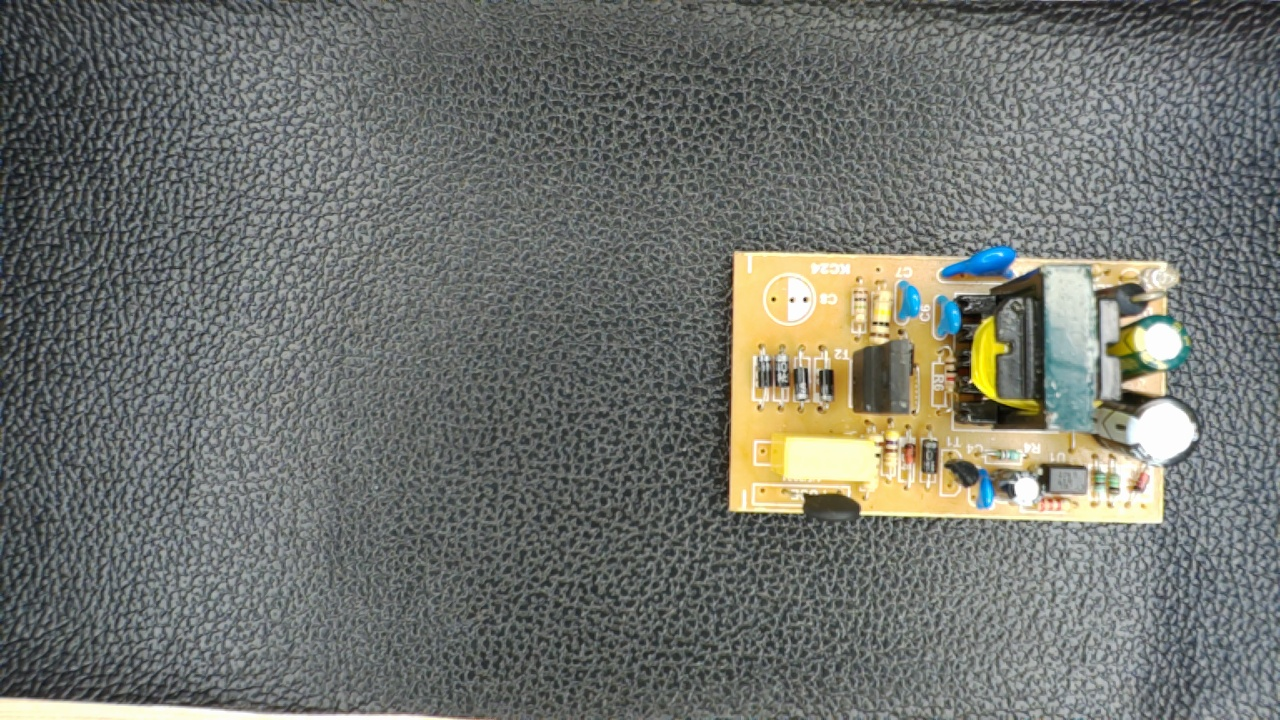fuse: (770, 479, 873, 522)
mov: (935, 242, 1020, 285)
optocoupler: (1032, 461, 1092, 498)
